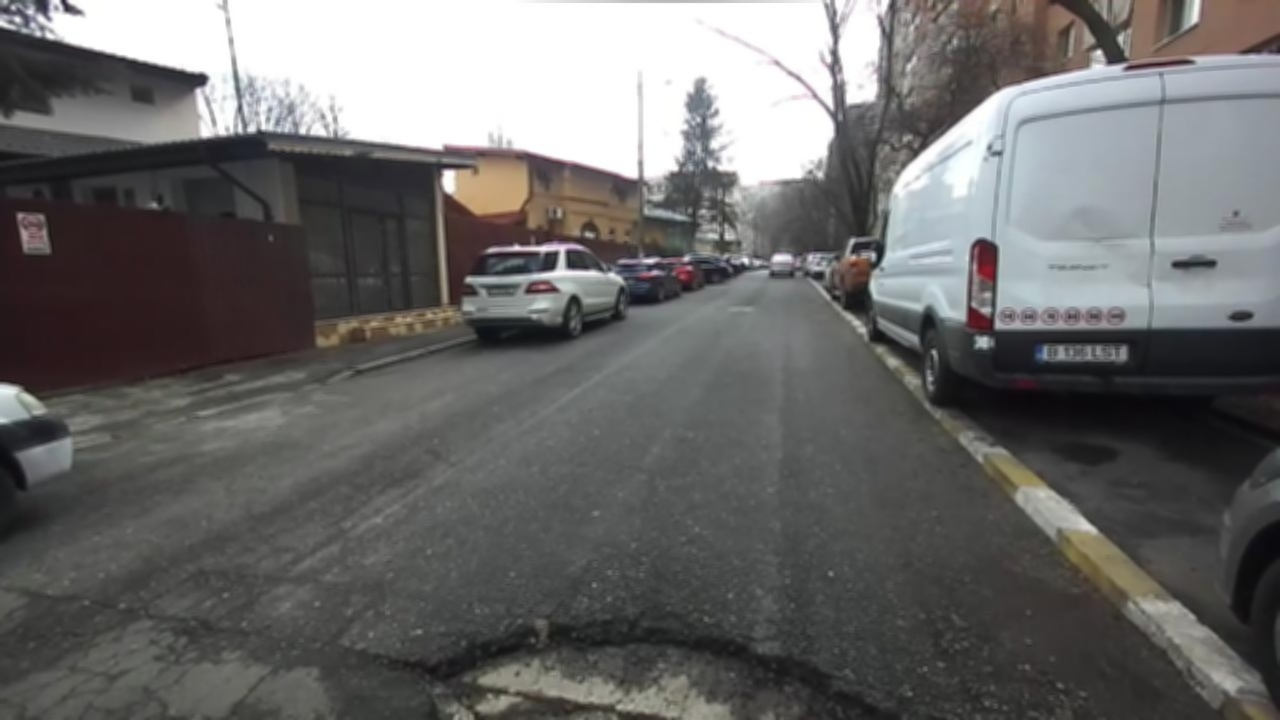pothole: (382, 599, 922, 718)
